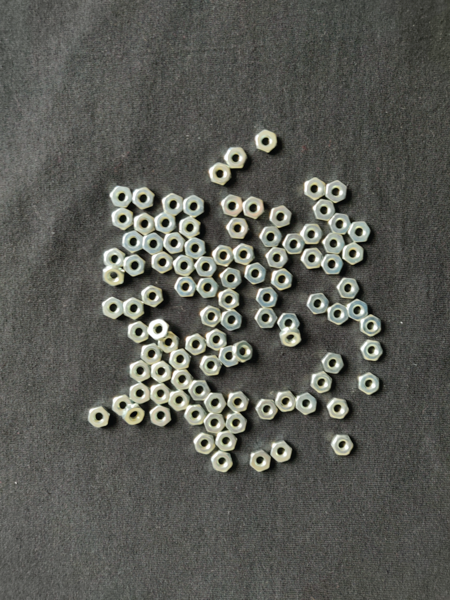nut: (255, 129, 278, 154), (209, 162, 232, 186), (132, 187, 156, 210), (233, 243, 257, 266), (255, 398, 279, 421), (304, 177, 327, 200), (270, 205, 293, 228), (243, 196, 266, 219), (271, 268, 294, 291), (141, 285, 164, 308), (140, 343, 163, 366), (162, 193, 184, 217), (322, 233, 346, 255), (265, 247, 289, 269), (149, 405, 173, 427), (326, 180, 348, 203), (110, 186, 133, 208), (183, 195, 205, 218), (328, 213, 351, 235), (348, 221, 371, 243), (154, 212, 177, 234), (134, 213, 156, 236), (112, 208, 134, 231), (212, 245, 235, 267), (142, 233, 164, 256), (173, 255, 196, 277), (152, 251, 174, 274), (123, 255, 146, 277), (256, 287, 279, 309), (307, 293, 330, 315), (347, 299, 369, 322), (360, 340, 383, 362), (123, 297, 145, 320), (148, 319, 171, 341), (127, 321, 149, 344), (158, 331, 180, 354), (169, 349, 192, 371), (311, 371, 333, 394), (358, 372, 380, 395), (271, 440, 293, 463), (227, 392, 250, 414), (129, 360, 151, 383), (151, 361, 173, 384), (193, 433, 216, 455), (211, 451, 233, 474), (226, 218, 250, 239), (174, 277, 198, 298), (336, 278, 360, 299), (321, 353, 345, 374), (313, 199, 335, 221), (164, 232, 186, 254), (245, 263, 267, 285), (197, 277, 219, 299), (360, 315, 382, 337), (218, 289, 240, 311), (221, 309, 243, 331), (200, 306, 222, 328), (206, 329, 228, 351), (327, 398, 349, 420), (275, 390, 297, 412), (129, 383, 151, 405), (112, 395, 134, 417), (224, 147, 247, 168), (180, 216, 201, 239), (260, 227, 283, 248), (283, 234, 306, 255), (343, 243, 364, 266), (301, 248, 324, 269), (321, 254, 344, 275), (122, 231, 143, 254), (220, 268, 243, 289), (255, 308, 278, 329), (328, 303, 349, 326), (186, 333, 207, 356), (200, 355, 223, 376), (331, 435, 354, 456), (296, 393, 317, 416), (250, 450, 271, 473), (204, 393, 227, 414), (122, 404, 145, 425), (150, 383, 171, 406), (184, 405, 207, 426), (204, 413, 227, 434), (215, 431, 238, 452), (222, 195, 243, 217), (185, 238, 206, 260), (103, 266, 125, 287), (102, 297, 123, 319), (88, 407, 110, 428), (168, 391, 190, 412), (300, 224, 323, 244), (195, 257, 218, 277), (233, 340, 253, 363), (171, 370, 194, 390), (226, 413, 247, 434), (280, 327, 302, 347), (219, 346, 239, 368), (189, 381, 211, 401), (104, 248, 126, 267), (278, 314, 301, 330)
